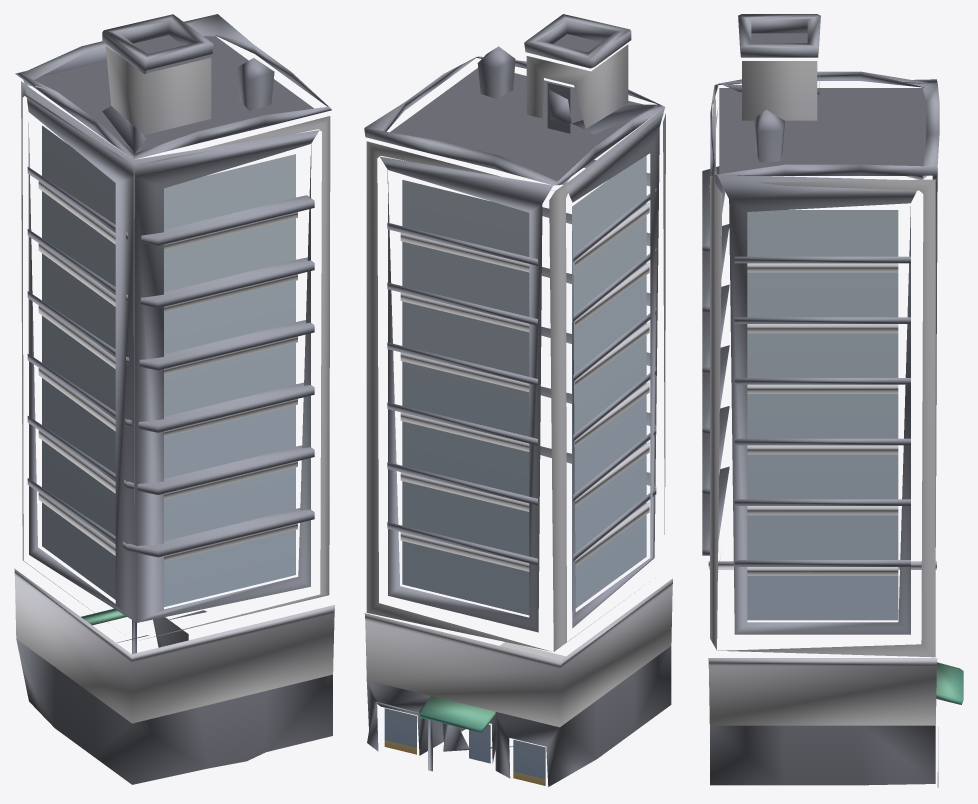
The picture shows the model from 3 angles, left to right: view 1: azimuth 30°, elevation 25°; view 2: azimuth 150°, elevation 25°; view 3: azimuth 270°, elevation 25°; orthographic projection. The views are drawn at different scales.
Bounding box in the file's own units: 9.86 × 32.64 × 11.1.
